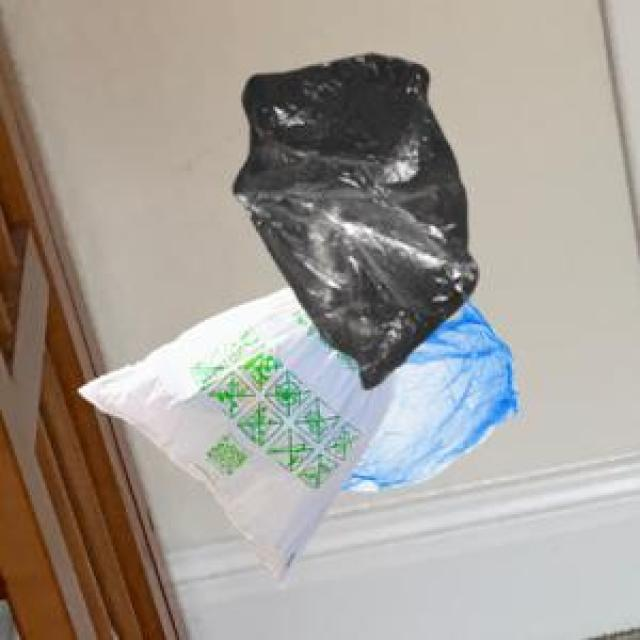waste: (81, 56, 518, 576)
